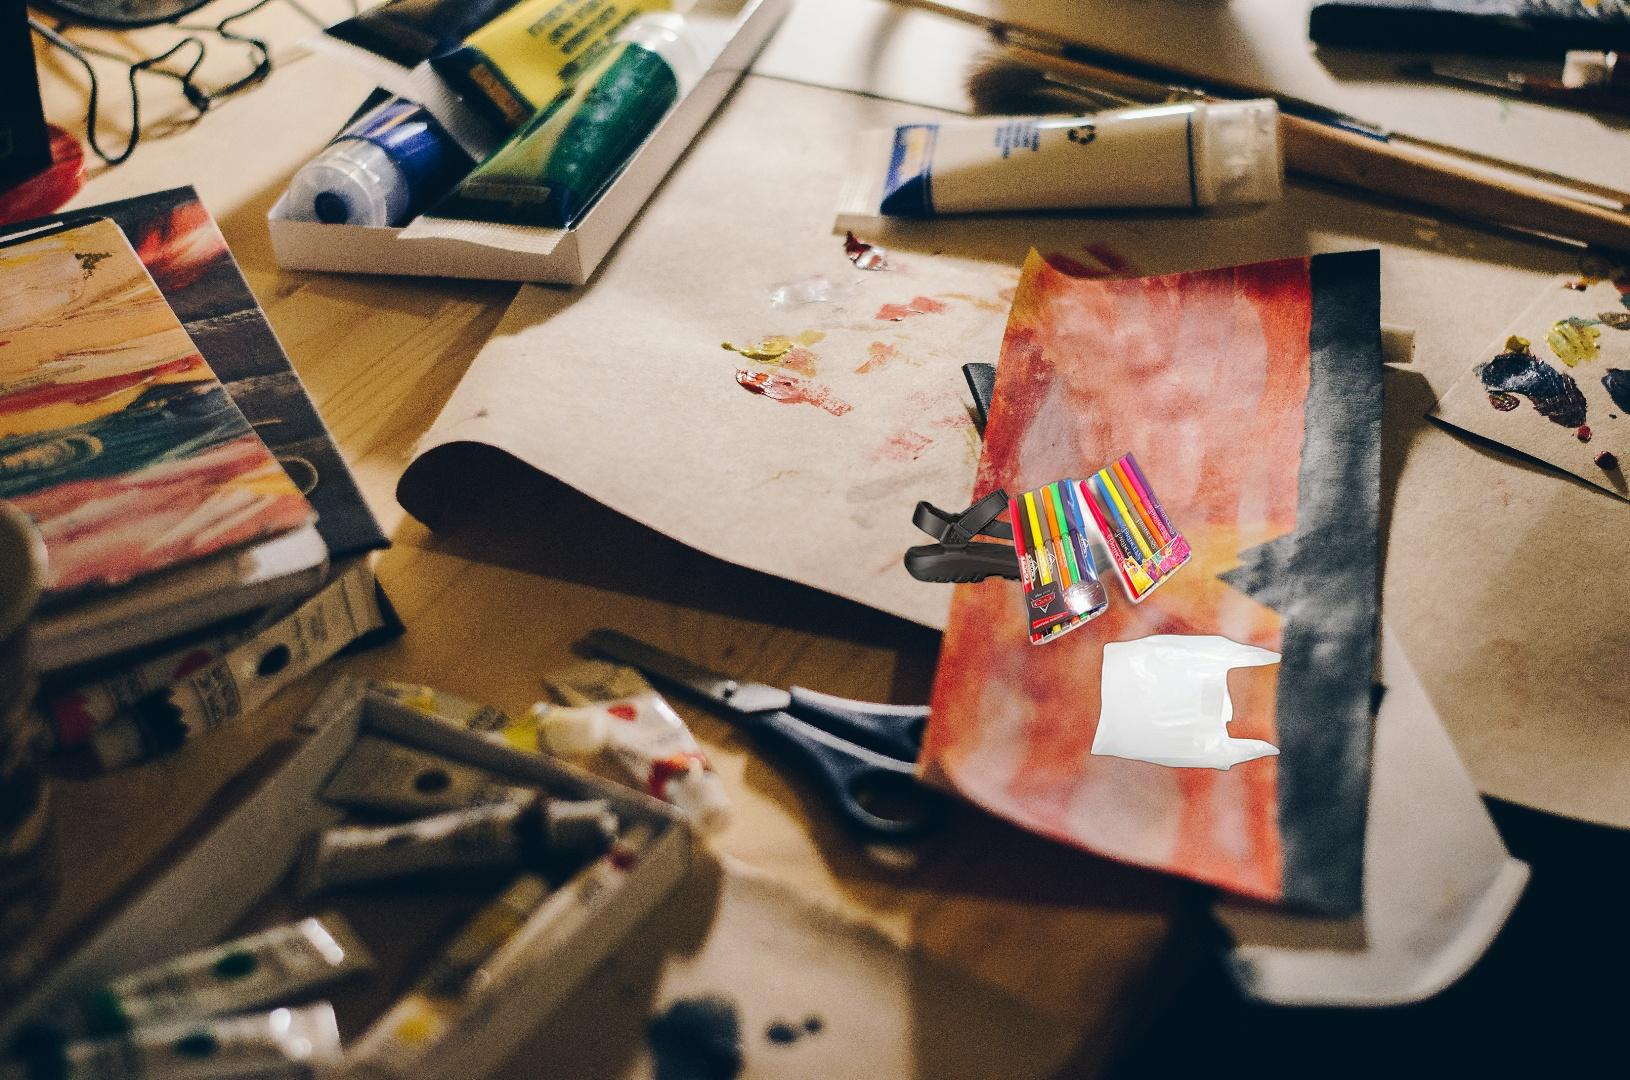penholder: (1000, 450, 1191, 645)
plastic-bag: (1089, 630, 1285, 771)
shoes: (902, 485, 1126, 586)
